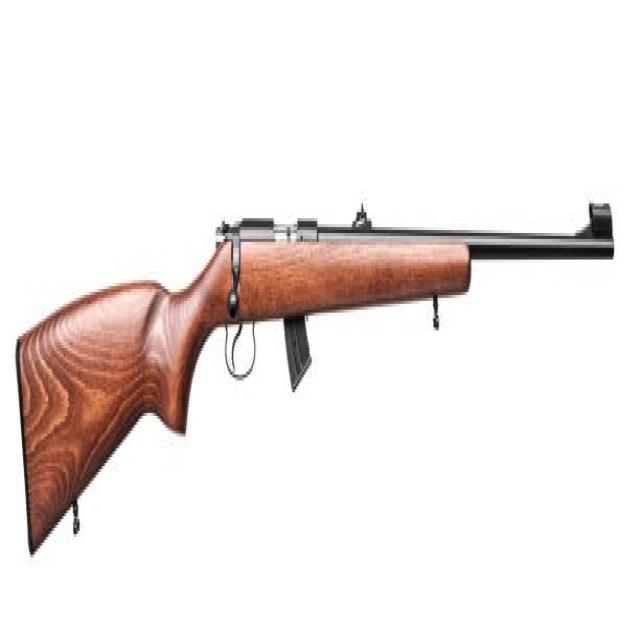rifle: (16, 158, 619, 575)
